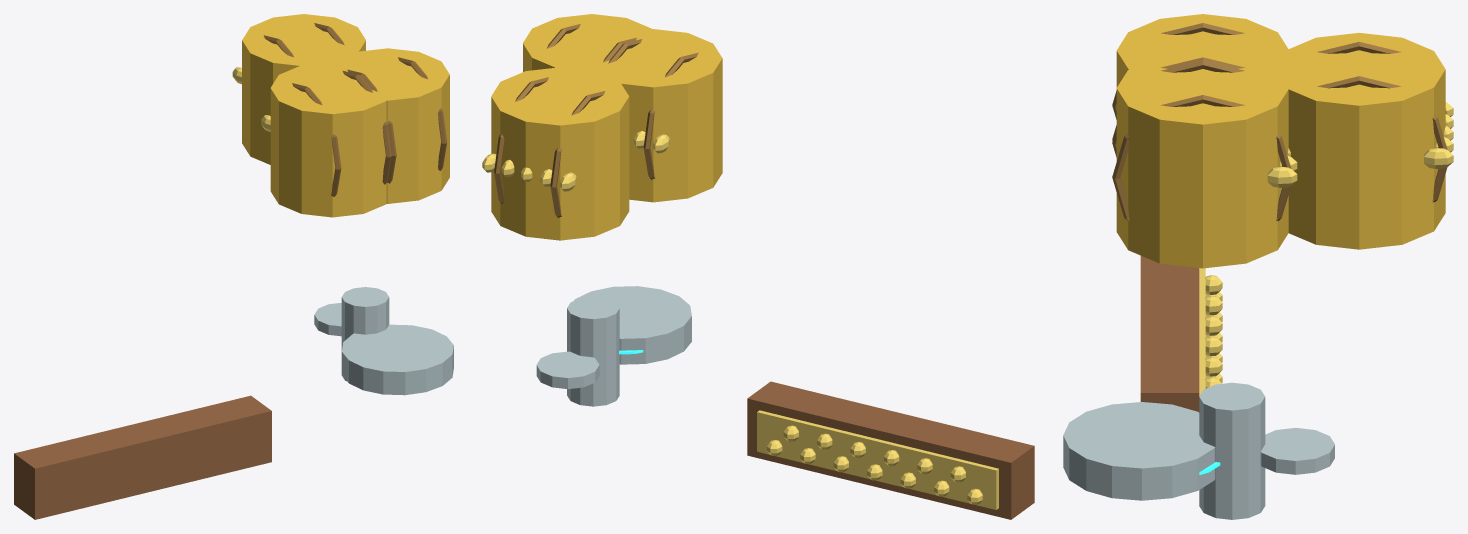
Rendered from gallinas_atrezzo_r9.glb.
3 views of the same model, side by side, from view 1: azimuth 30°, elevation 25°; view 2: azimuth 150°, elevation 25°; view 3: azimuth 270°, elevation 25° (orthographic). The views are drawn at different scales.
Visible parts, largest first — view 1: wooden feeder, rounded hay bale, rounded hay bale.001, rounded hay bale.002, water bowl, water tank, water cap, hay twine, hay twine.003, hay twine.001; view 2: rounded hay bale.002, rounded hay bale, wooden feeder, feed interior, water bowl, rounded hay bale.001, water tank, water cap, hay twine.004, hay twine, hay twine.005; view 3: rounded hay bale.002, rounded hay bale.001, water bowl, rounded hay bale, wooden feeder, water tank, water cap, hay twine.003, hay twine.005, feed interior, hay twine.002, hay twine (+3 smaller).
Part boxes in pixels (x1,y1,x2,y2): wooden feeder: [14, 395, 271, 519]; rounded hay bale: [270, 63, 394, 217]; rounded hay bale.001: [326, 48, 449, 203]; rounded hay bale.002: [242, 14, 365, 164]; water bowl: [341, 324, 453, 395]; water tank: [341, 287, 389, 381]; water cap: [314, 303, 341, 336]; hay twine: [292, 83, 341, 196]; hay twine.003: [398, 57, 447, 170]; hay twine.001: [343, 71, 391, 184]; rounded hay bale.002: [491, 67, 629, 240]; rounded hay bale: [585, 29, 722, 202]; wooden feeder: [747, 381, 1034, 519]; feed interior: [757, 410, 998, 509]; water bowl: [574, 286, 691, 364]; rounded hay bale.001: [523, 14, 659, 72]; water tank: [567, 297, 619, 406]; water cap: [536, 351, 599, 388]; hay twine.004: [550, 91, 604, 217]; hay twine: [643, 52, 698, 179]; hay twine.005: [494, 77, 548, 203]; rounded hay bale.002: [1273, 32, 1445, 249]; rounded hay bale.001: [1116, 53, 1288, 268]; water bowl: [1063, 402, 1215, 500]; rounded hay bale: [1116, 14, 1289, 87]; wooden feeder: [1140, 256, 1199, 412]; water tank: [1199, 382, 1265, 519]; water cap: [1260, 427, 1334, 474]; hay twine.003: [1112, 95, 1291, 221]; hay twine.005: [1317, 76, 1447, 202]; feed interior: [1199, 268, 1205, 395]; hay twine.002: [1112, 60, 1244, 157]; hay twine: [1112, 23, 1244, 119].
Bounding box in the file's own units: 5.43 × 4.18 × 3.07.
